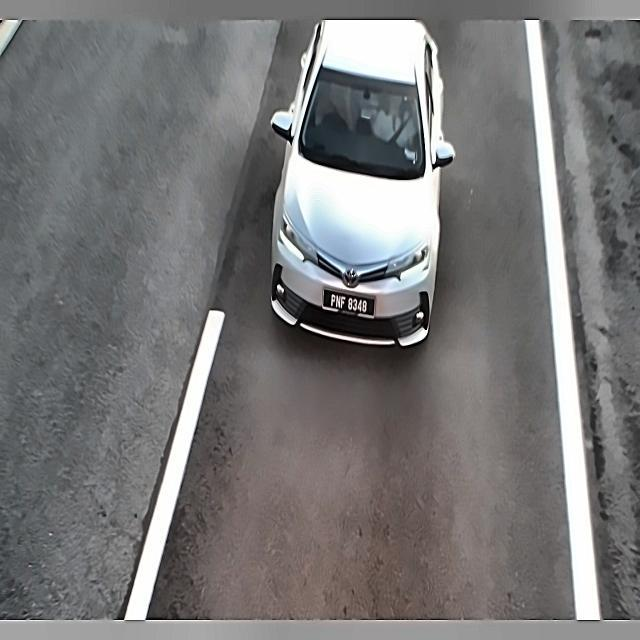car: (314, 282, 382, 328)
